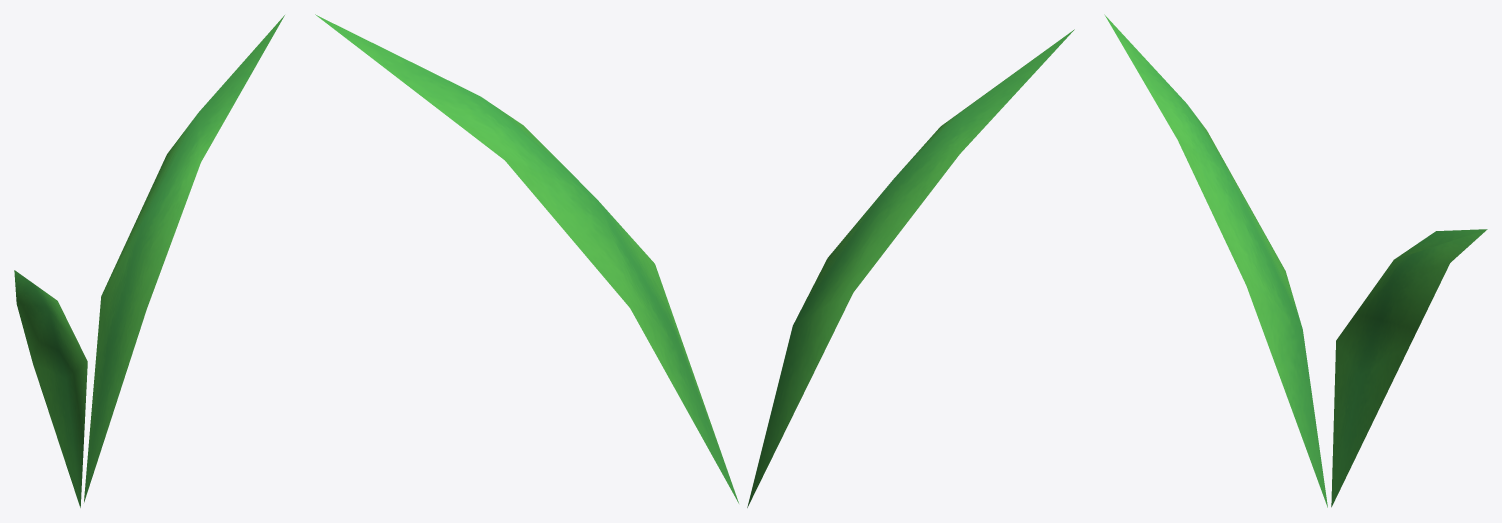
Rendered from Grass_Clump_1.glb.
The picture shows the model from 3 angles, left to right: view 1: azimuth 30°, elevation 25°; view 2: azimuth 150°, elevation 25°; view 3: azimuth 270°, elevation 25°; orthographic projection. The views are drawn at different scales.
Visible parts, largest first — view 1: object6.026_object6.041, object6.054_object6.042; view 2: object6.026_object6.041, object6.054_object6.042; view 3: object6.054_object6.042, object6.026_object6.041.
Part boxes in pixels (x1,y1,x2,y2): object6.026_object6.041: (84, 15, 284, 502); object6.054_object6.042: (14, 270, 87, 507); object6.026_object6.041: (315, 14, 738, 503); object6.054_object6.042: (747, 29, 1074, 507); object6.054_object6.042: (1104, 14, 1327, 507); object6.026_object6.041: (1331, 229, 1487, 507).
Bounding box in the file's own units: 0.4287 × 0.3526 × 0.2827.
Materials: 1 (1 with a texture image).
